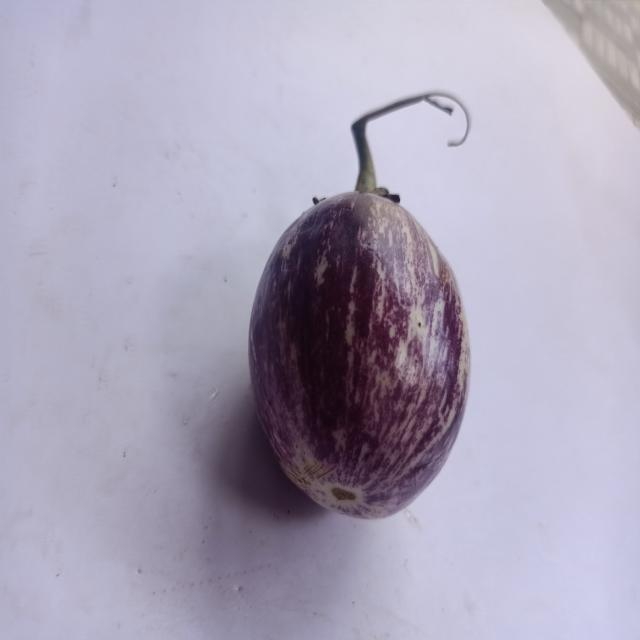Eggplant: (234, 69, 498, 537)
